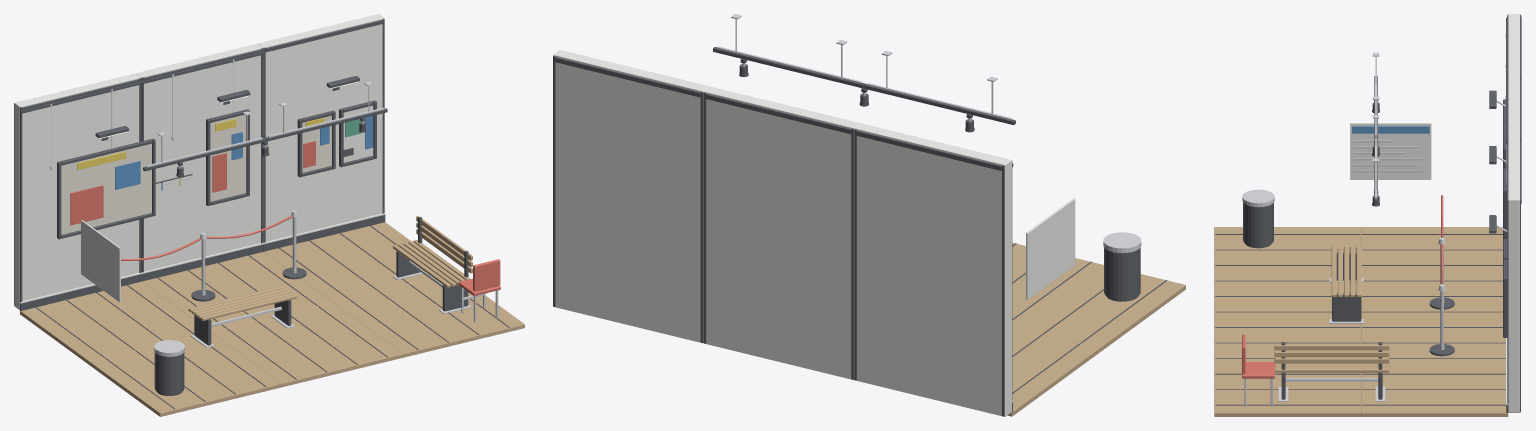
File: art-gallery-and-exhibition-rooms-single-room-hang-a32f2fd9.glb
3 renders of one model, left to right at view 1: azimuth 30°, elevation 25°; view 2: azimuth 150°, elevation 25°; view 3: azimuth 270°, elevation 25°, orthographic. The views are drawn at different scales.
Visible parts, largest first — view 1: 008-gallery-wall-module/0, 007-gallery-wall-module/0, 006-gallery-wall-module/0, 003-gallery-floor-tile/0, 000-gallery-floor-tile/0, 005-gallery-floor-tile/0, 001-gallery-floor-tile/0, 004-gallery-floor-tile/0, 002-gallery-floor-tile/0, 012-framed-canvas-large/1, 027-gallery-bench-backed/2, 030-wall-text-panel/0 (+26 smaller); view 2: 006-gallery-wall-module/0, 007-gallery-wall-module/0, 008-gallery-wall-module/0, 001-gallery-floor-tile/0, 000-gallery-floor-tile/0, 030-wall-text-panel/0, 007-gallery-wall-module/1, 008-gallery-wall-module/1, 006-gallery-wall-module/1, 032-gallery-bin/0, 021-lighting-track-section/0, 021-lighting-track-section/1 (+3 smaller); view 3: 004-gallery-floor-tile/0, 000-gallery-floor-tile/0, 002-gallery-floor-tile/0, 003-gallery-floor-tile/0, 001-gallery-floor-tile/0, 005-gallery-floor-tile/0, 030-wall-text-panel/0, 008-gallery-wall-module/0, 027-gallery-bench-backed/2, 026-gallery-bench/2, 032-gallery-bin/0, 026-gallery-bench/0 (+17 smaller).
Boxes of the visible parts, box(x1,y1,x2,y2) form: 008-gallery-wall-module/0: box(257, 14, 384, 241); 007-gallery-wall-module/0: box(136, 43, 262, 271); 006-gallery-wall-module/0: box(14, 73, 141, 309); 003-gallery-floor-tile/0: box(212, 303, 403, 387); 000-gallery-floor-tile/0: box(20, 281, 194, 365); 005-gallery-floor-tile/0: box(333, 279, 524, 357); 001-gallery-floor-tile/0: box(90, 332, 281, 416); 004-gallery-floor-tile/0: box(264, 222, 429, 302); 002-gallery-floor-tile/0: box(142, 252, 332, 332); 012-framed-canvas-large/1: box(61, 143, 151, 234); 027-gallery-bench-backed/2: box(393, 216, 472, 287); 030-wall-text-panel/0: box(81, 220, 120, 302); 006-gallery-wall-module/0: box(854, 123, 1011, 416); 007-gallery-wall-module/0: box(704, 86, 860, 379); 008-gallery-wall-module/0: box(553, 50, 710, 343); 001-gallery-floor-tile/0: box(1012, 255, 1185, 352); 000-gallery-floor-tile/0: box(1007, 327, 1098, 416); 030-wall-text-panel/0: box(1026, 198, 1075, 300); 007-gallery-wall-module/1: box(703, 92, 853, 379); 008-gallery-wall-module/1: box(553, 56, 703, 342); 006-gallery-wall-module/1: box(854, 129, 1012, 416); 032-gallery-bin/0: box(1104, 248, 1140, 301); 021-lighting-track-section/0: box(863, 83, 1015, 124); 021-lighting-track-section/1: box(867, 50, 1011, 120); 004-gallery-floor-tile/0: box(1361, 351, 1508, 416); 000-gallery-floor-tile/0: box(1361, 227, 1502, 288); 002-gallery-floor-tile/0: box(1361, 289, 1505, 350); 003-gallery-floor-tile/0: box(1214, 289, 1361, 350); 001-gallery-floor-tile/0: box(1214, 227, 1361, 288); 005-gallery-floor-tile/0: box(1214, 351, 1361, 416); 030-wall-text-panel/0: box(1350, 123, 1431, 179); 008-gallery-wall-module/0: box(1508, 138, 1519, 412); 027-gallery-bench-backed/2: box(1274, 344, 1389, 372); 026-gallery-bench/2: box(1331, 246, 1361, 297); 032-gallery-bin/0: box(1243, 202, 1273, 248); 026-gallery-bench/0: box(1332, 252, 1361, 321).
Size of the model in its own units: 6 by 3.26 by 4.18.
